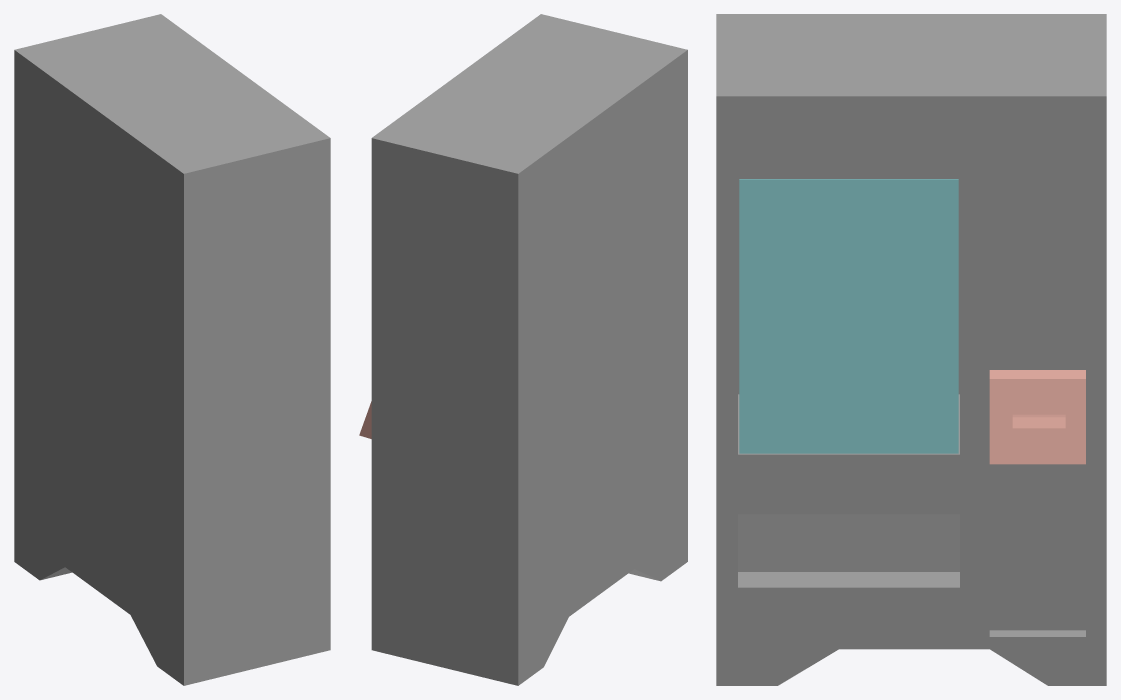
Rendered from торговый-автомат-2.fbx.
3 views of the same model, side by side, from view 1: azimuth 30°, elevation 25°; view 2: azimuth 150°, elevation 25°; view 3: azimuth 270°, elevation 25° (orthographic). The views are drawn at different scales.
Parts seen in each view (by area): view 1: Автомат обычный; view 2: Автомат обычный; view 3: Автомат обычный.
Part boxes in pixels (x1,y1,x2,y2): Автомат обычный: [14, 14, 330, 685]; Автомат обычный: [359, 14, 687, 685]; Автомат обычный: [716, 14, 1106, 685].
Bounding box in the file's own units: 1.72 × 5 × 3.
